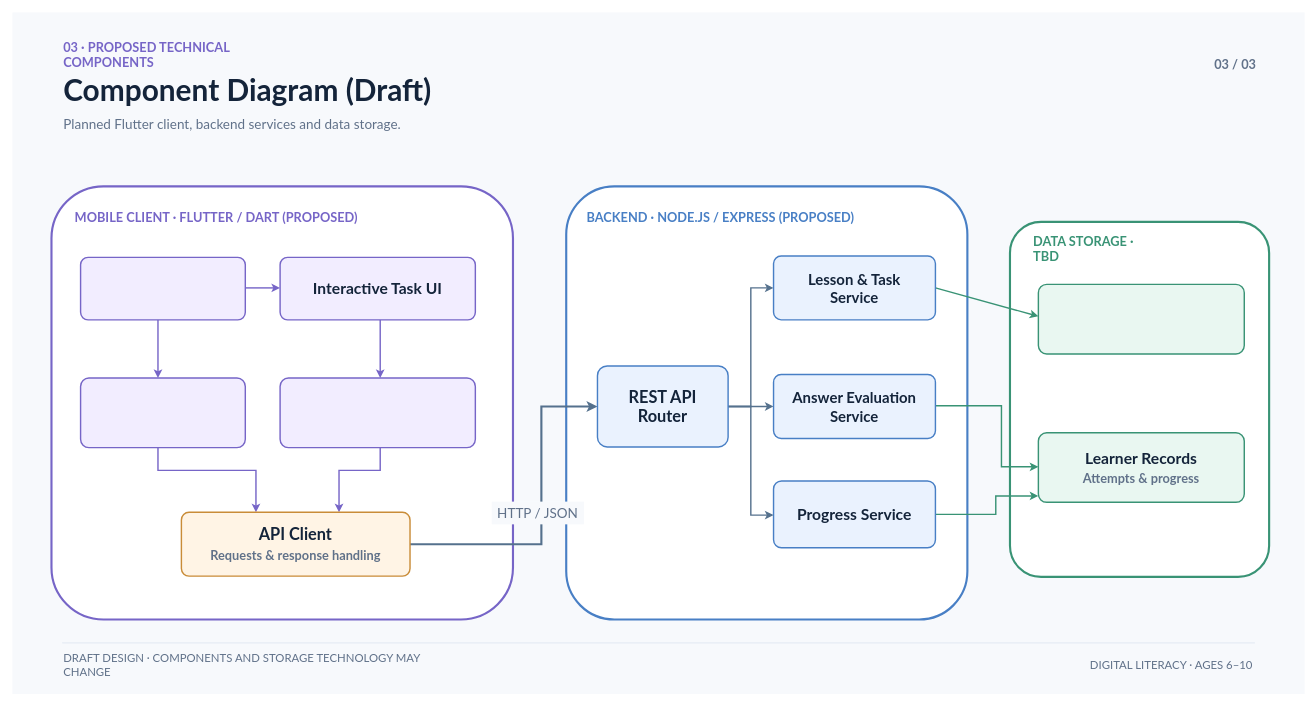
Image size: 1316x706. Some labels were removed from this diagram. Here are the shapes that lost their labels. From the top down, the centre of each, then its label:
At point (163, 288): "Navigation & Lesson Selection".
At point (1141, 318): "Learning Content Lessons & tasks".
At point (163, 412): "Progress View".
At point (377, 412): "Hints & Feedback UI".
